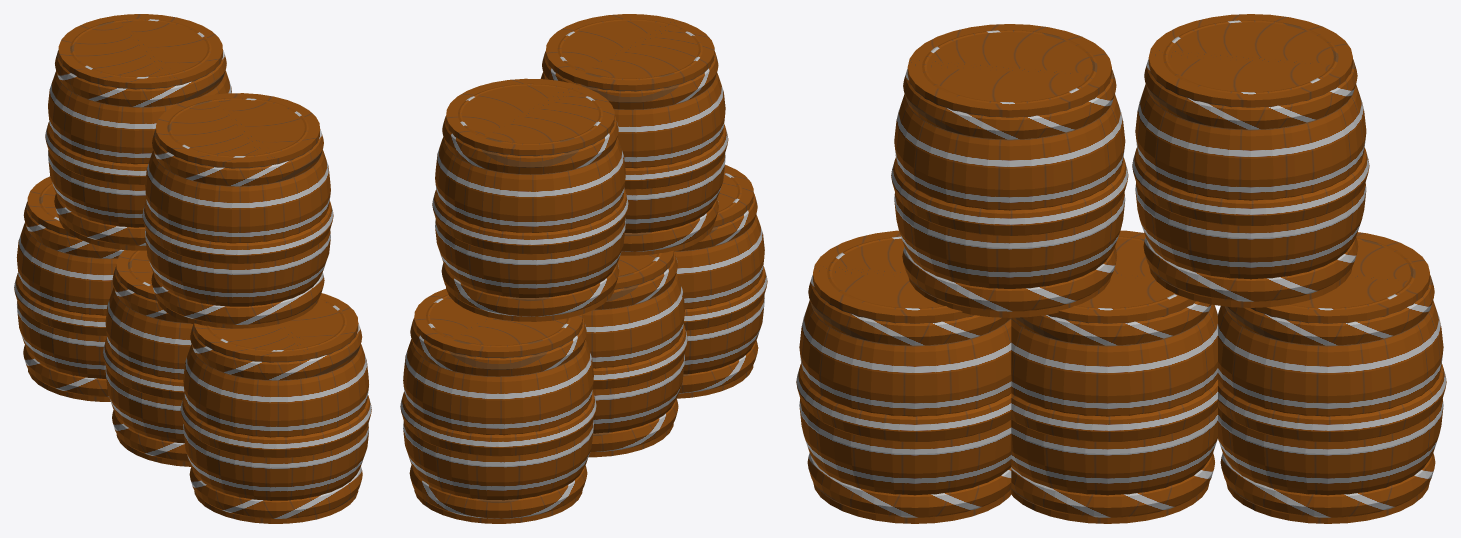
Rendered from ammadetonneau.obj.
The picture shows the model from 3 angles, left to right: view 1: azimuth 30°, elevation 25°; view 2: azimuth 150°, elevation 25°; view 3: azimuth 270°, elevation 25°; orthographic projection. The views are drawn at different scales.
Parts seen in each view (by area): view 1: Sphere.005, Sphere.009, Cylinder.004, Cylinder.003, Sphere.004, Sphere.008, Cylinder.002, Sphere.007, Sphere.002, Sphere.001, Torus.014, Torus.008 (+18 smaller); view 2: Sphere.002, Sphere.007, Cylinder.003, Cylinder.004, Sphere.006, Sphere.003, Cylinder.001, Sphere.009, Sphere.001, Sphere.005, Torus.011, Torus.003 (+18 smaller); view 3: Sphere.007, Sphere.009, Sphere.002, Cylinder.003, Cylinder.004, Sphere.005, Sphere.001, Sphere.008, Sphere.006, Sphere.003, Sphere.004, Sphere (+18 smaller).
Part boxes in pixels (x1,y1,x2,y2): Sphere.005: [183, 344, 368, 437]; Sphere.009: [145, 150, 330, 243]; Cylinder.004: [156, 93, 319, 328]; Cylinder.003: [58, 14, 222, 250]; Sphere.004: [183, 423, 368, 500]; Sphere.008: [145, 229, 330, 306]; Cylinder.002: [194, 293, 358, 523]; Sphere.007: [48, 70, 231, 164]; Sphere.002: [16, 222, 117, 315]; Sphere.001: [105, 287, 192, 379]; Torus.014: [142, 200, 333, 263]; Torus.008: [180, 395, 371, 457]; Sphere.002: [403, 339, 593, 435]; Sphere.007: [435, 137, 625, 232]; Cylinder.003: [446, 78, 614, 321]; Cylinder.004: [546, 14, 714, 255]; Sphere.006: [435, 218, 625, 297]; Sphere.003: [403, 420, 593, 500]; Cylinder.001: [414, 289, 582, 523]; Sphere.009: [540, 72, 725, 168]; Sphere.001: [583, 273, 684, 368]; Sphere.005: [674, 214, 764, 309]; Torus.011: [432, 189, 628, 254]; Torus.003: [400, 391, 596, 456]; Sphere.007: [1135, 84, 1366, 200]; Sphere.009: [894, 94, 1125, 210]; Sphere.002: [1218, 300, 1443, 416]; Cylinder.003: [1148, 14, 1352, 307]; Cylinder.004: [907, 24, 1111, 317]; Sphere.005: [799, 300, 1011, 416]; Sphere.001: [1011, 304, 1217, 416]; Sphere.008: [894, 192, 1125, 288]; Sphere.006: [1135, 182, 1366, 279]; Sphere.003: [1218, 398, 1443, 495]; Sphere.004: [799, 398, 1011, 495]; Sphere: [1011, 407, 1217, 495].
Size of the model in its own units: 2.32 by 4.6 by 6.37.
Materials: 5 (5 with a texture image).
